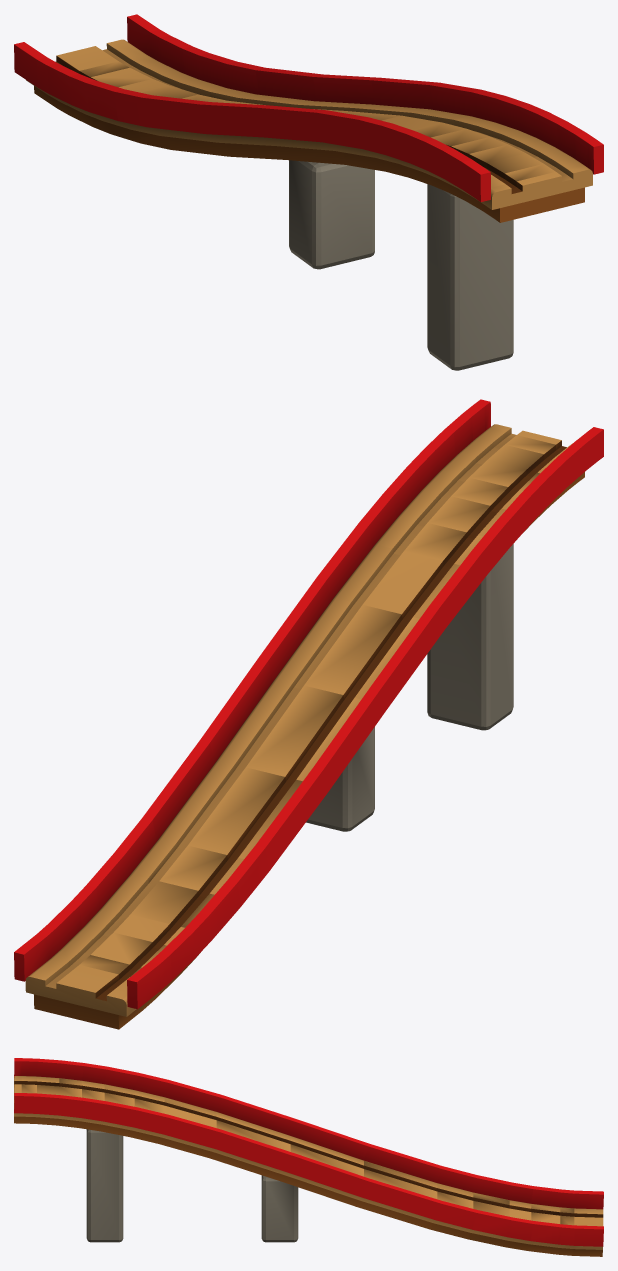
The model's file is Ramp.fbx.
3 views of the same model, one above another, from view 1: azimuth 30°, elevation 25°; view 2: azimuth 150°, elevation 25°; view 3: azimuth 270°, elevation 25° (orthographic). The views are drawn at different scales.
Parts seen in each view (by area): view 1: Ramp; view 2: Ramp; view 3: Ramp.
Boxes of the visible parts, <box> form: Ramp: <box>14,14,603,370</box>; Ramp: <box>14,399,603,1029</box>; Ramp: <box>14,1058,603,1256</box>.
Bounding box in the file's own units: 1.22 × 2.5 × 8.01.
